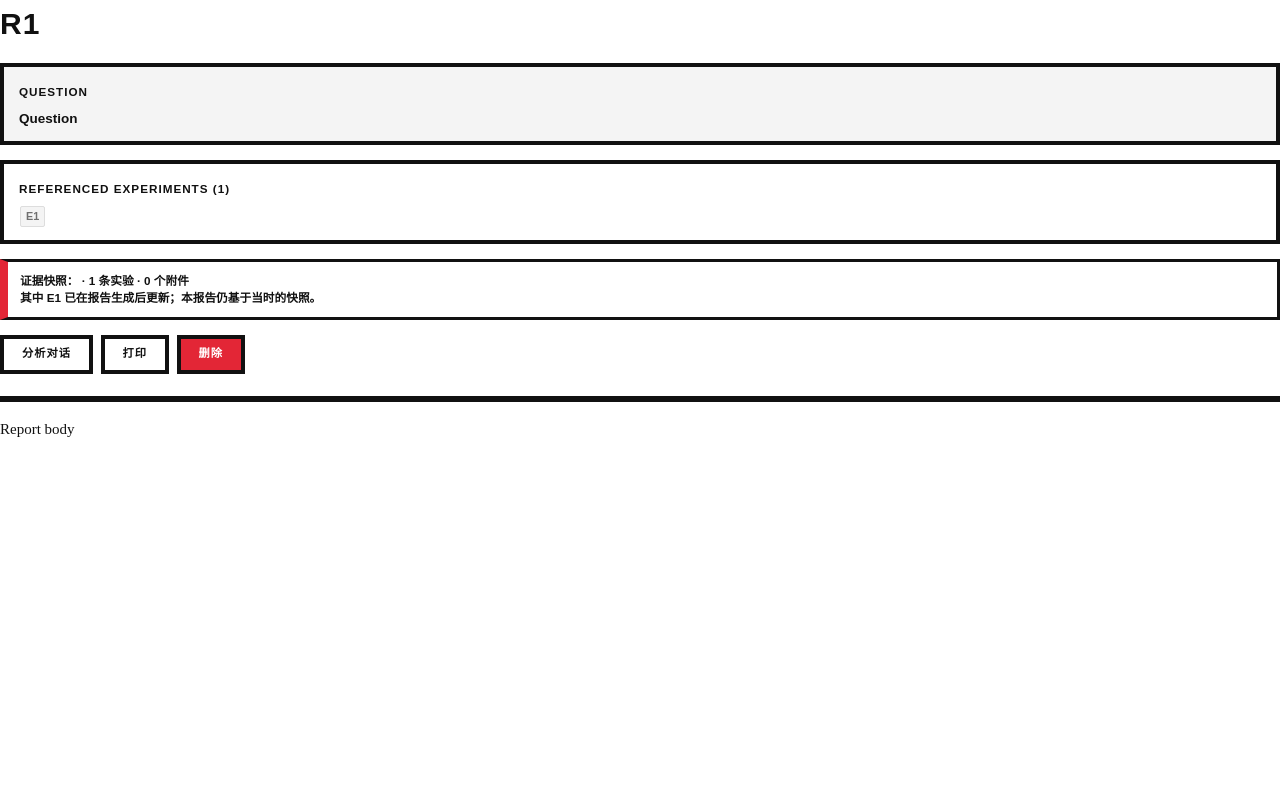
报告显示证据过期与原始内容，分析子对话使用独立接口和缓存
Expected: the text "Report body" is shown, [0,421,75,437]
Expected: the text "已在报告生成后更新" is shown, [61,292,321,304]
Click the button "打印": x=135, y=354 [100,335,169,374]
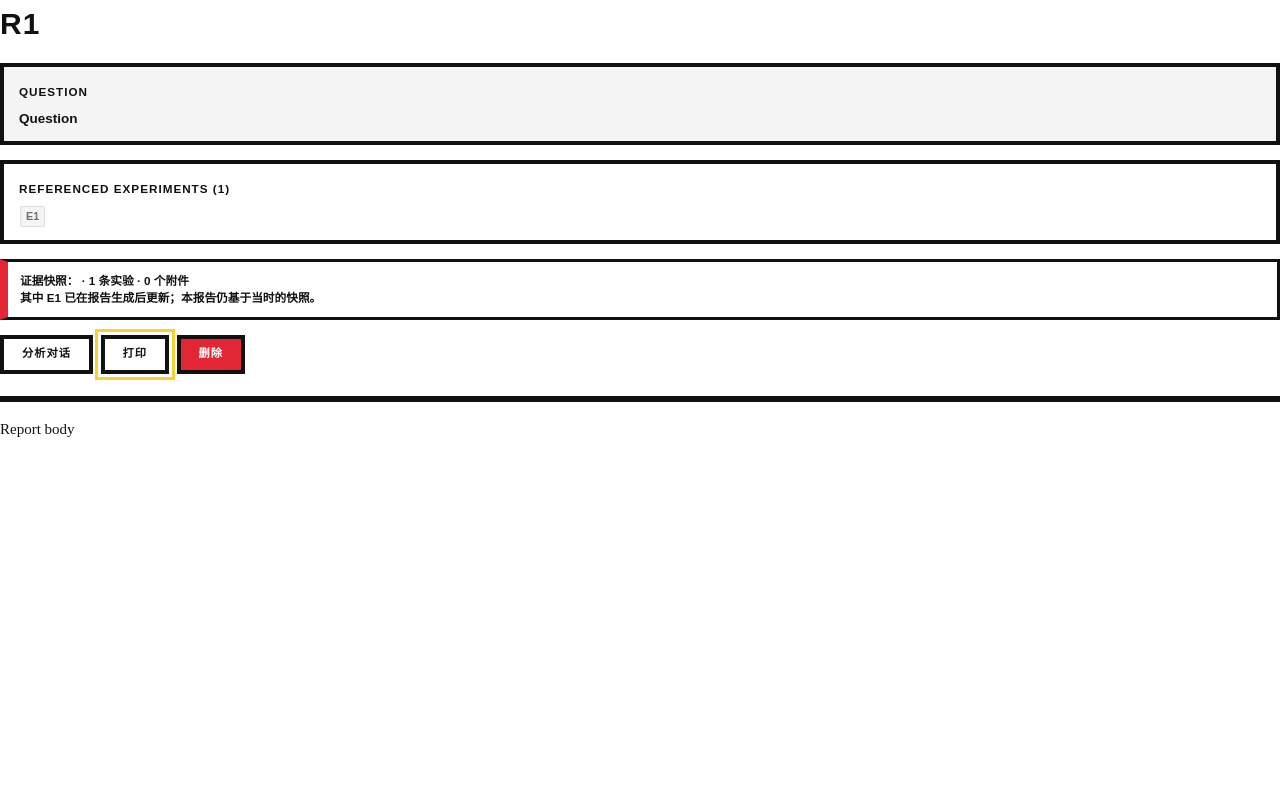
Click the button "分析对话": x=46, y=354 [0,335,93,374]
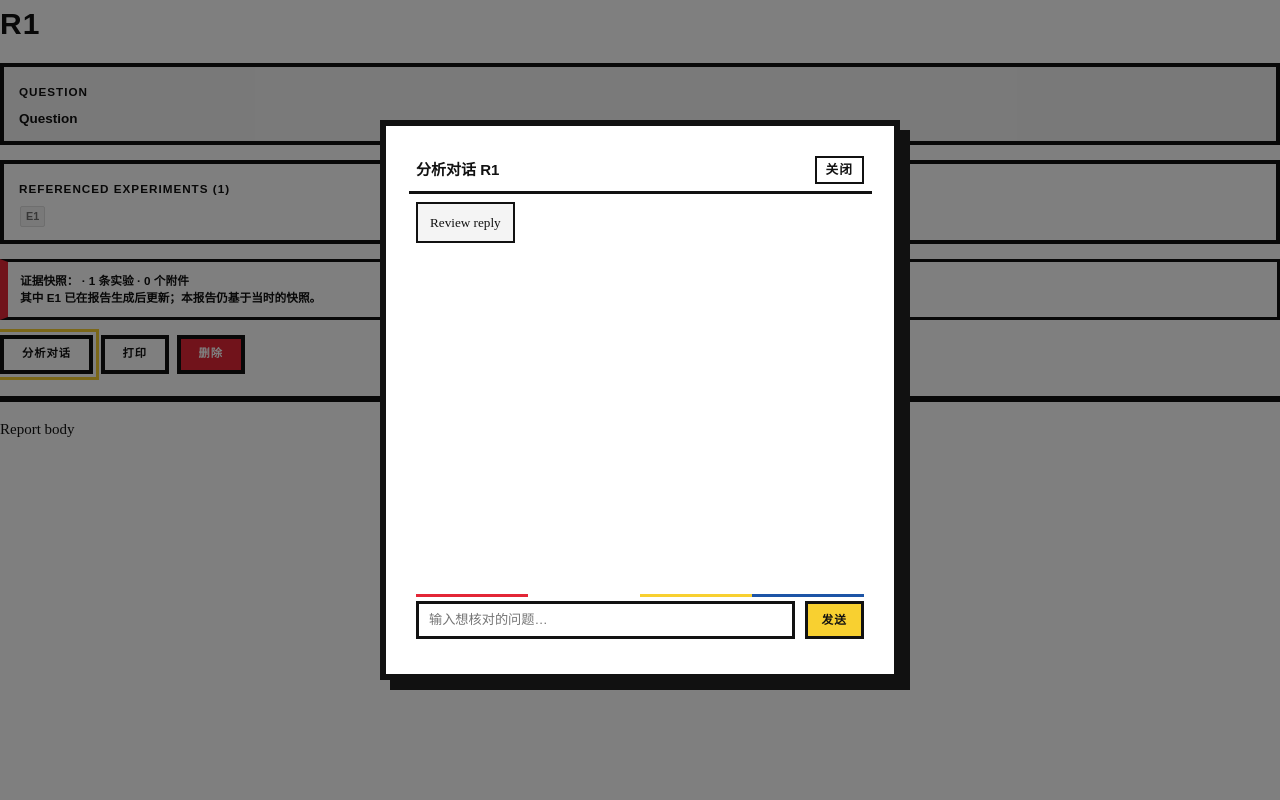
Now the text "Review reply" is shown, box [430,212,501,233]
